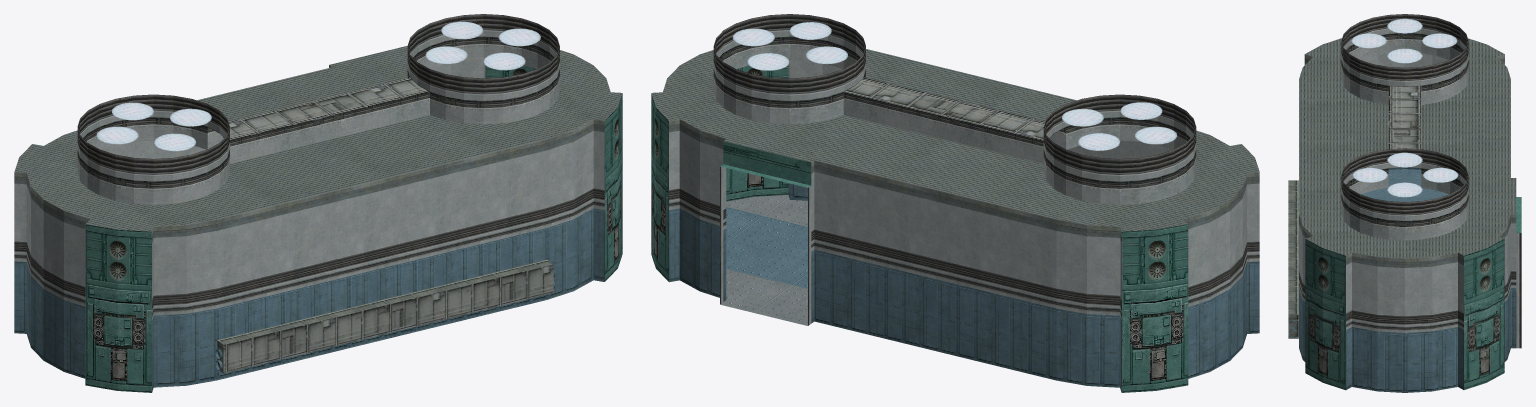
The model's file is ply_tato_hospital_s01_r4_crafting_mesh_r4.fbx.
3 renders of one model, left to right at view 1: azimuth 30°, elevation 25°; view 2: azimuth 150°, elevation 25°; view 3: azimuth 270°, elevation 25°, orthographic. The views are drawn at different scales.
Parts seen in each view (by area): view 1: mesh_node; view 2: mesh_node; view 3: mesh_node.
Part boxes in pixels (left/top/right/bottom): mesh_node: left=14, top=14, right=622, bottom=392; mesh_node: left=651, top=14, right=1259, bottom=392; mesh_node: left=1288, top=14, right=1521, bottom=392.
Bounding box in the file's own units: 12.5 × 4.5 × 5.5.
